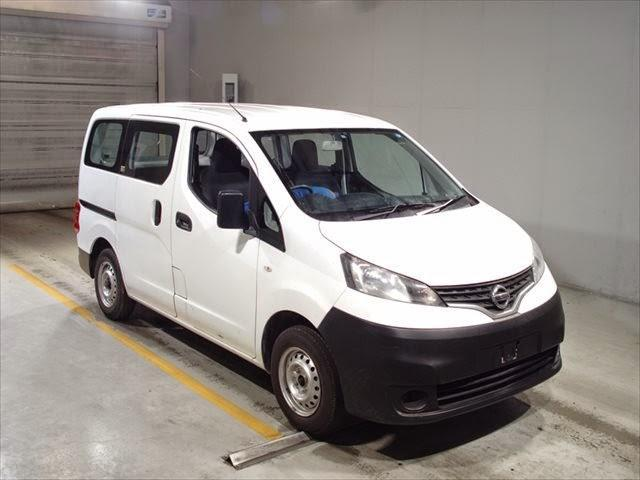car: (67, 98, 568, 442)
